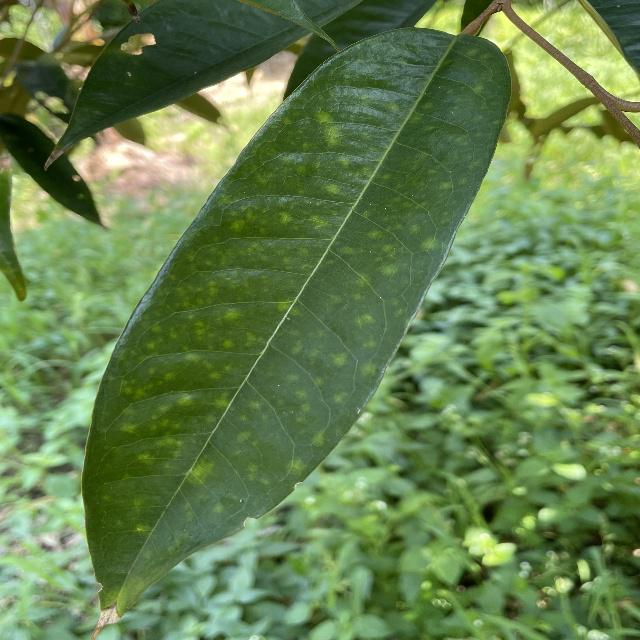Leaf Spot: (77, 21, 514, 631)
